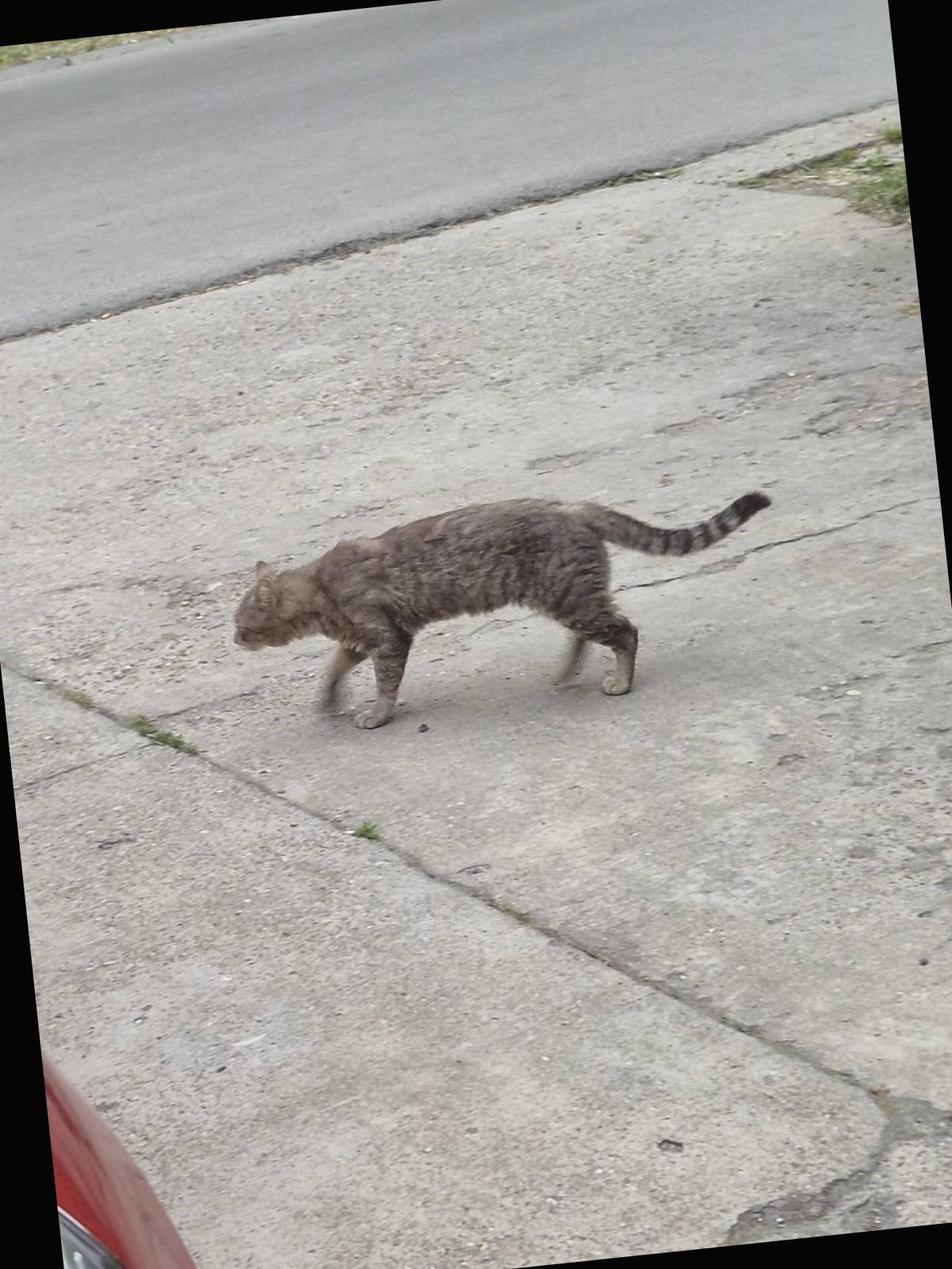macka: (217, 472, 789, 742)
